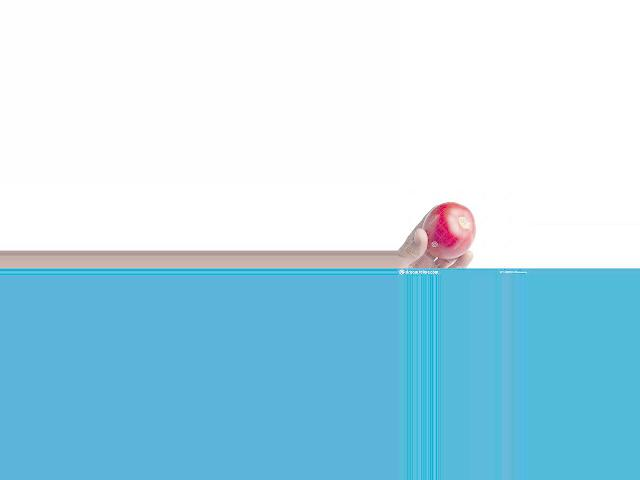tomato: (422, 202, 476, 259)
